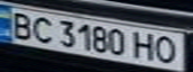0: (106, 26, 130, 57)
1: (72, 21, 93, 52)
3: (54, 18, 78, 48)
8: (90, 24, 109, 54)
B: (3, 9, 36, 39)
C: (27, 14, 57, 45)
H: (130, 29, 160, 61)
O: (151, 34, 184, 65)
